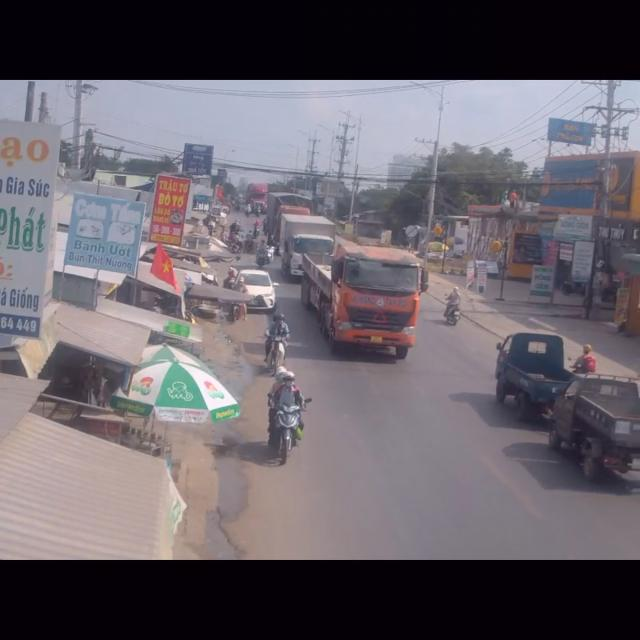motorbike: (266, 368, 306, 469), (262, 313, 290, 377), (569, 344, 596, 374), (444, 286, 461, 329)
truck: (298, 244, 423, 356), (552, 374, 640, 480), (495, 329, 576, 424)
